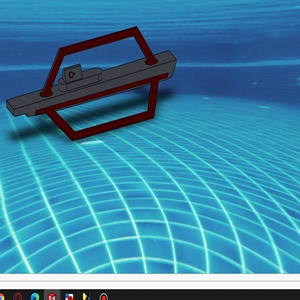submarine: (14, 34, 176, 137)
